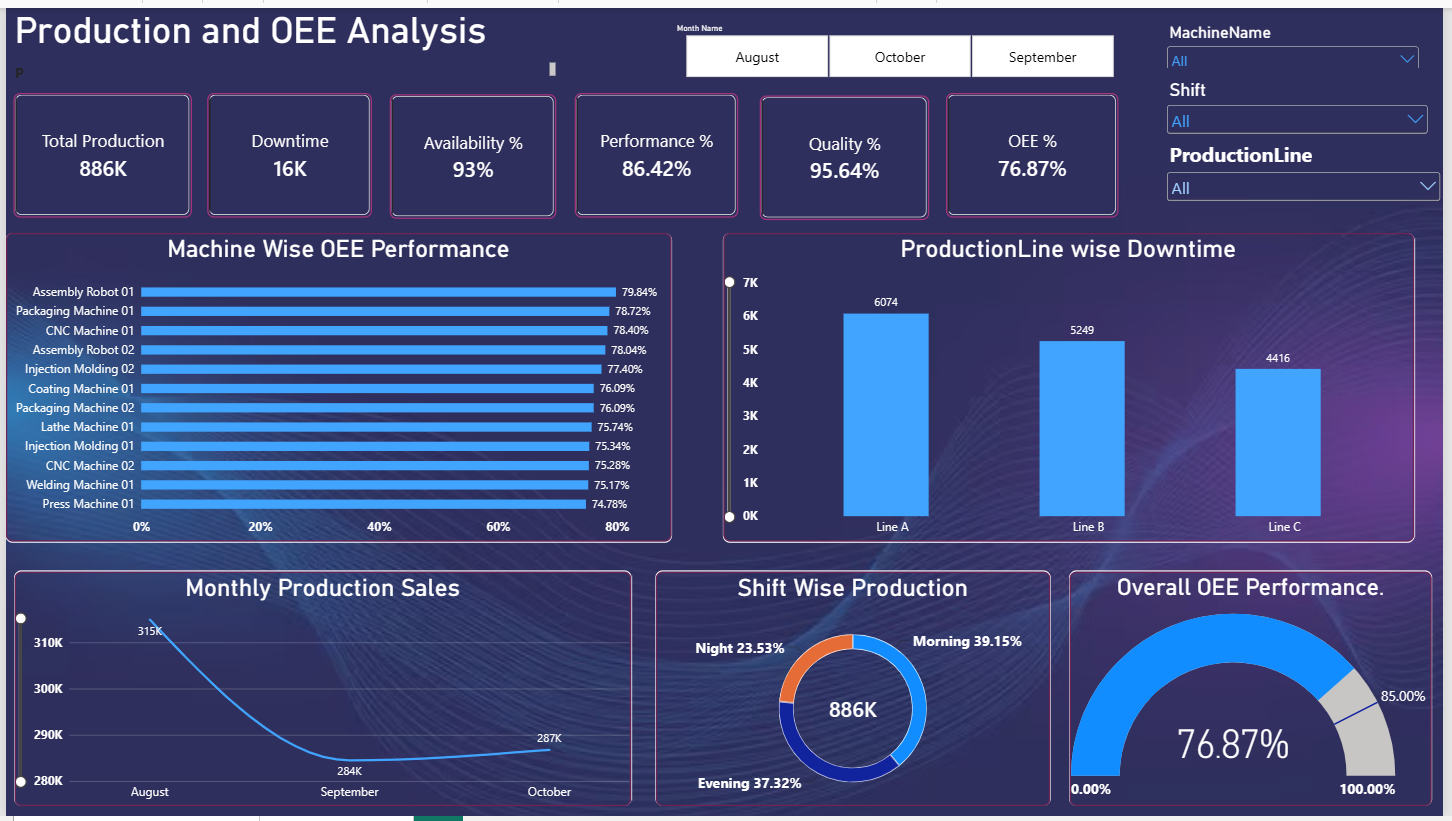

What the dashboard file says about the page in this screenshot:
{"tool":"powerbi","page":{"name":"production and oee  analysisi","canvas":[1920,1080],"ordinal":0},"visuals":[{"type":"textbox","box":[10,0,280,280],"z":0},{"type":"textbox","title":"Production and OEE Analysis","box":[10.9,1.8,722.1,92.3],"z":1},{"type":"cardVisual","fields":{"Data":["Table.Total Production"]},"box":[10.3,113.2,238.8,166.7],"z":2},{"type":"cardVisual","fields":{"Data":["Table.Downtime"]},"box":[269.6,113.2,220.2,166.7],"z":3},{"type":"cardVisual","fields":{"Data":["Table.Performance %"]},"box":[759.5,113.2,218.2,166.7],"z":4},{"type":"cardVisual","fields":{"Data":["Table.Quality %"]},"box":[1006.5,117.3,226.4,166.7],"z":5},{"type":"cardVisual","fields":{"Data":["Table.Availability %"]},"box":[512.5,115.3,222.3,166.7],"z":6},{"type":"cardVisual","fields":{"Data":["Table.OEE %"]},"box":[1255.6,113.2,230.5,166.7],"z":7},{"type":"clusteredBarChart","title":"Machine Wise OEE Performance","fields":{"Category":["machines.MachineName"],"Y":["Table.OEE %"]},"box":[0,300.5,889.2,411.7],"z":8},{"type":"lineChart","title":"Monthly Production Sales","fields":{"Category":["production.ProductionDate.Variation.Date Hierarchy.Month"],"Y":["Sum(production.TotalUnitsProduced)"]},"box":[10.9,752.8,823.4,313.1],"z":9},{"type":"columnChart","title":"ProductionLine wise  Downtime","fields":{"Category":["machines.ProductionLine"],"Y":["Sum(production.Downtime_Min)"]},"box":[959.2,300.5,922.1,411.7],"z":10},{"type":"slicer","fields":{"Values":["machines.ProductionLine"]},"box":[1545.8,177,374.6,102.9],"z":11},{"type":"slicer","fields":{"Values":["production.Shift"]},"box":[1545.8,94.7,358.1,80.3],"z":12},{"type":"slicer","fields":{"Values":["machines.MachineName"]},"box":[1545.8,20.6,345.8,59.7],"z":13},{"type":"donutChart","title":"Shift Wise Production","fields":{"Category":["production.Shift"],"Y":["Sum(production.TotalUnitsProduced)"]},"box":[868.6,752.8,526.6,313.1],"z":14},{"type":"gauge","title":"Overall OEE Performance.","fields":{"TargetValue":["Table.Target"],"Y":["Table.OEE %"]},"box":[1420.6,752.8,483.2,313.1],"z":15},{"type":"slicer","fields":{"Values":["production.Month Name"]},"box":[888.5,19.9,609.9,74.2],"z":16}]}

Visuals, with their boxes in screenshot pixels (x1, y1, x2, y2), scaled from the page's 1920x1080 canvas onto the 1452x821 screenshot:
textbox: select_region(8, 0, 219, 213)
"Production and OEE Analysis" textbox: select_region(8, 1, 554, 72)
cardVisual - Table.Total Production: select_region(8, 86, 188, 213)
cardVisual - Table.Downtime: select_region(204, 86, 370, 213)
cardVisual - Table.Performance %: select_region(574, 86, 739, 213)
cardVisual - Table.Quality %: select_region(761, 89, 932, 216)
cardVisual - Table.Availability %: select_region(388, 88, 556, 214)
cardVisual - Table.OEE %: select_region(950, 86, 1124, 213)
"Machine Wise OEE Performance" clusteredBarChart: select_region(0, 228, 672, 541)
"Monthly Production Sales" lineChart: select_region(8, 572, 631, 810)
"ProductionLine wise  Downtime" columnChart: select_region(725, 228, 1423, 541)
slicer - machines.ProductionLine: select_region(1169, 135, 1451, 213)
slicer - production.Shift: select_region(1169, 72, 1440, 133)
slicer - machines.MachineName: select_region(1169, 16, 1431, 61)
"Shift Wise Production" donutChart: select_region(657, 572, 1055, 810)
"Overall OEE Performance." gauge: select_region(1074, 572, 1440, 810)
slicer - production.Month Name: select_region(672, 15, 1133, 72)
